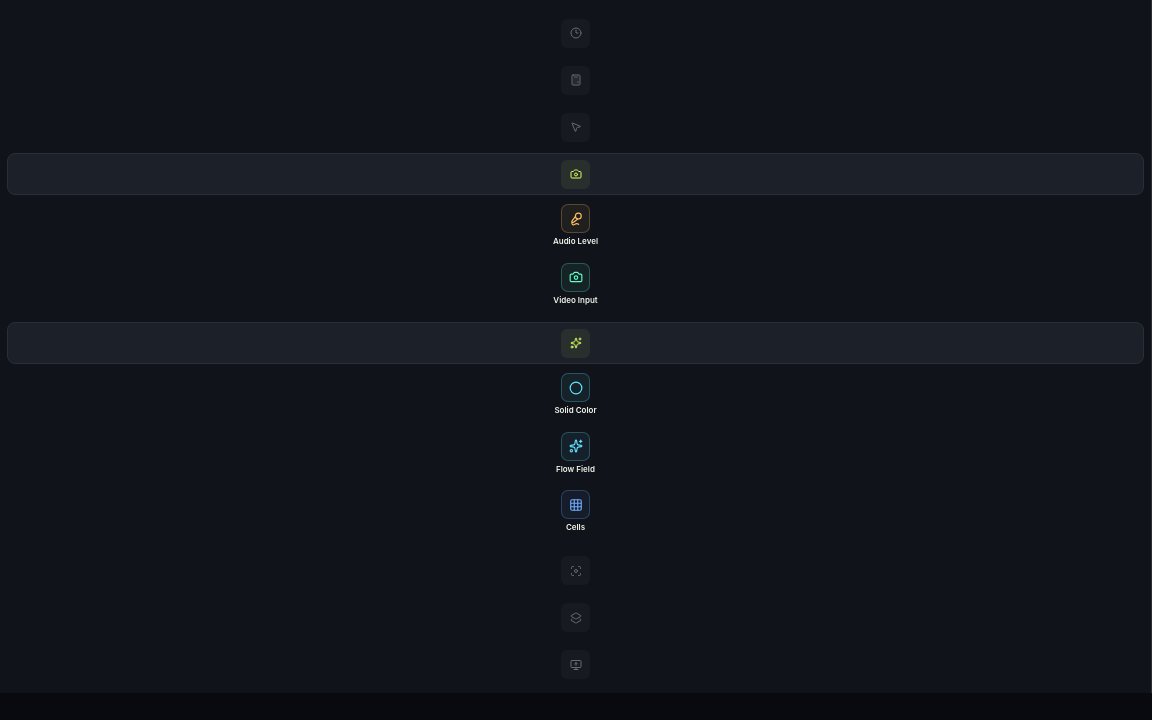
Test: OperatorLibrary › expands a category and keeps node placement to one click
What coordinates should you click on to do the following:
click the button named "Timing"
I would click on:
 (576, 33)
Its box is left=7, top=12, right=1144, bottom=54.
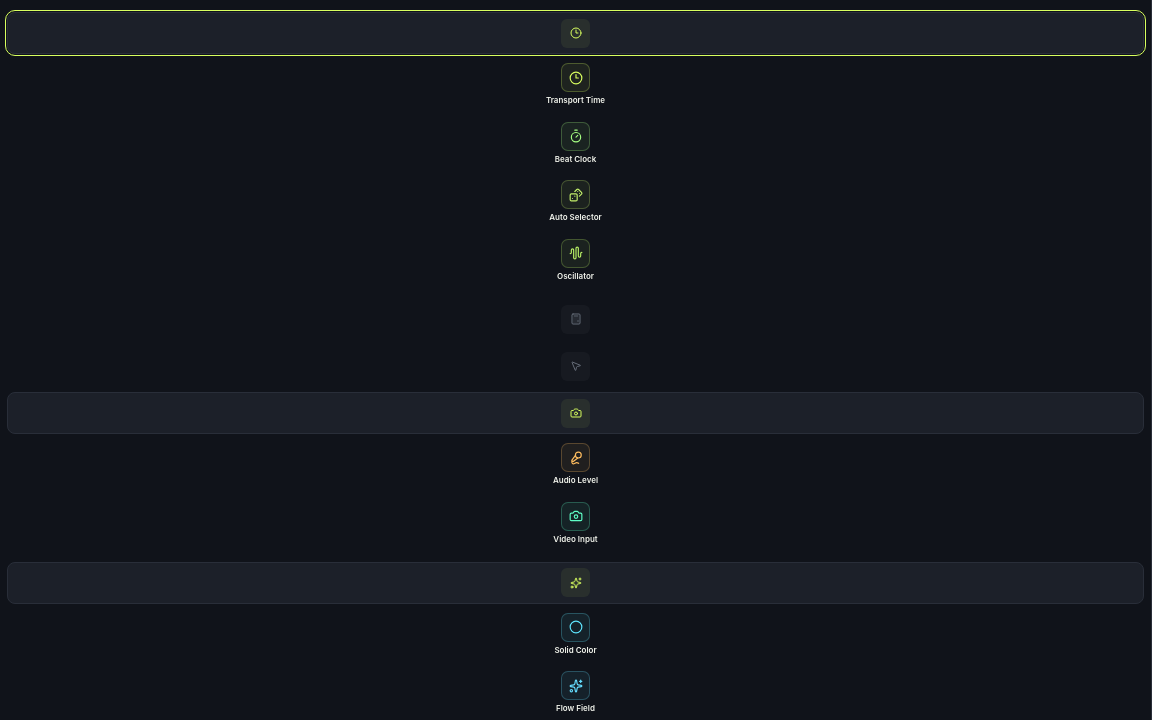
Now the button named "Timing" is expanded, box left=7, top=12, right=1144, bottom=54
Now the button titled "Add Auto Selector" is shown, box left=7, top=174, right=1144, bottom=229
What coordinates should you click on to do the following:
click the button titled "Add Transport Time"
I would click on:
 (576, 84)
Its box is left=7, top=57, right=1144, bottom=112.
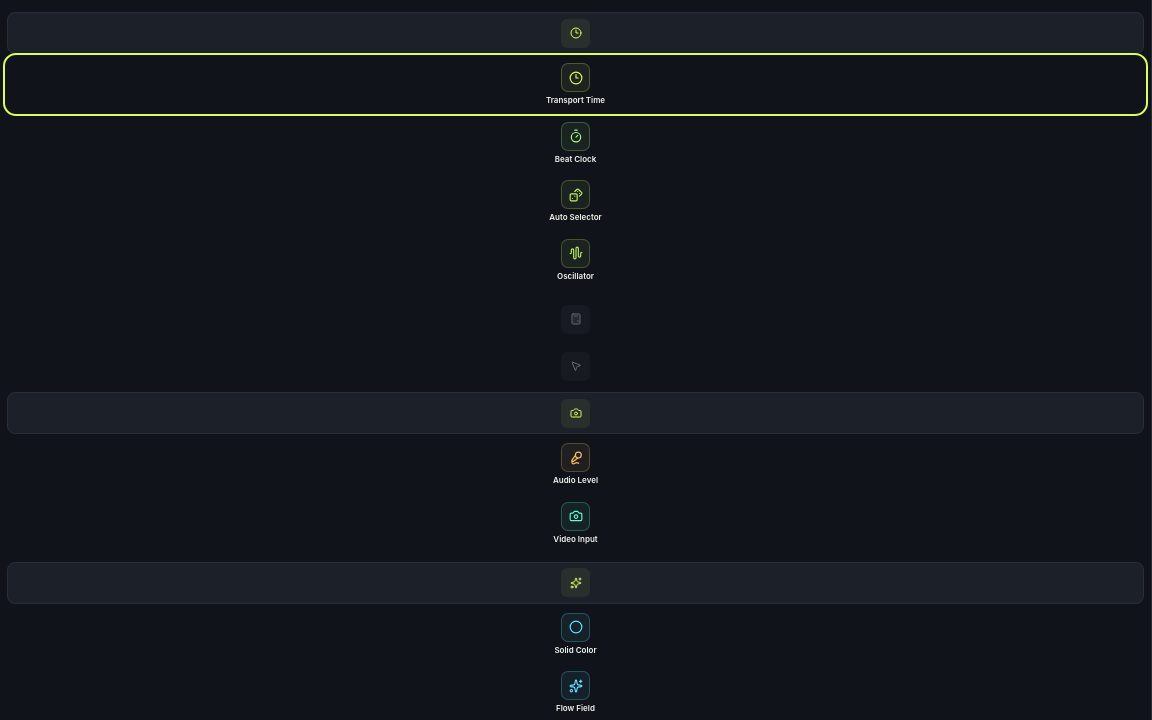
What coordinates should you click on to do the following:
click the button named "Timing"
I would click on:
 (576, 33)
Its box is left=7, top=12, right=1144, bottom=54.
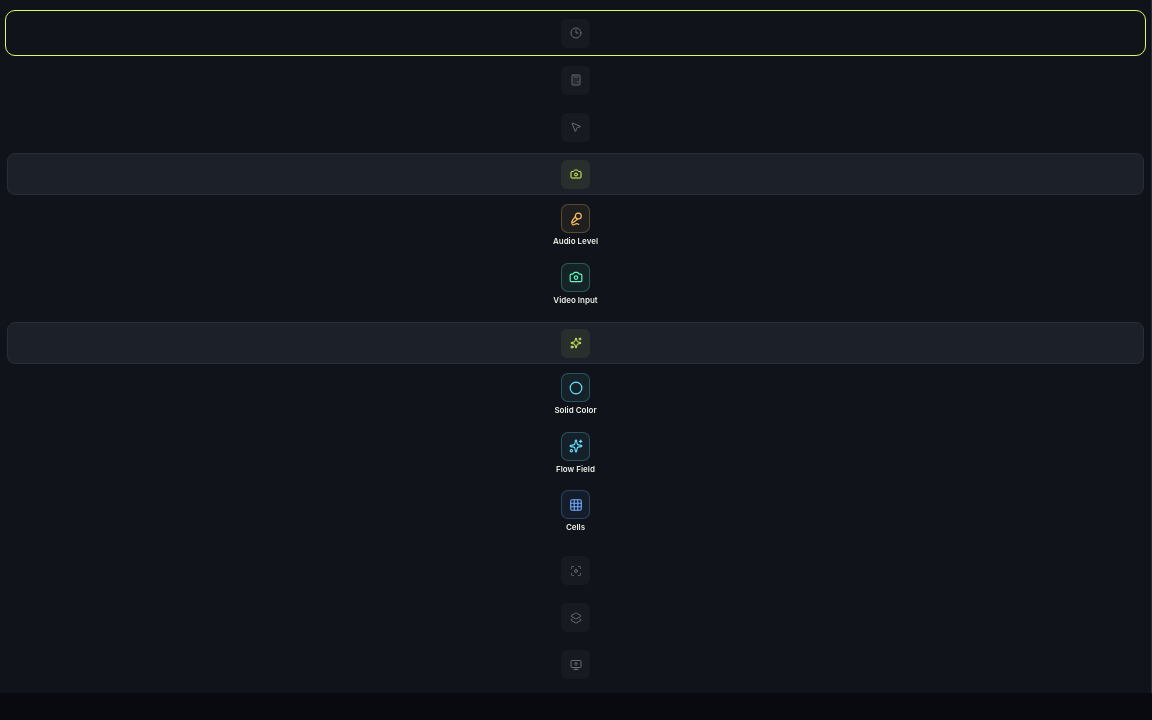
Now the button named "Timing" is collapsed, box left=7, top=12, right=1144, bottom=54
